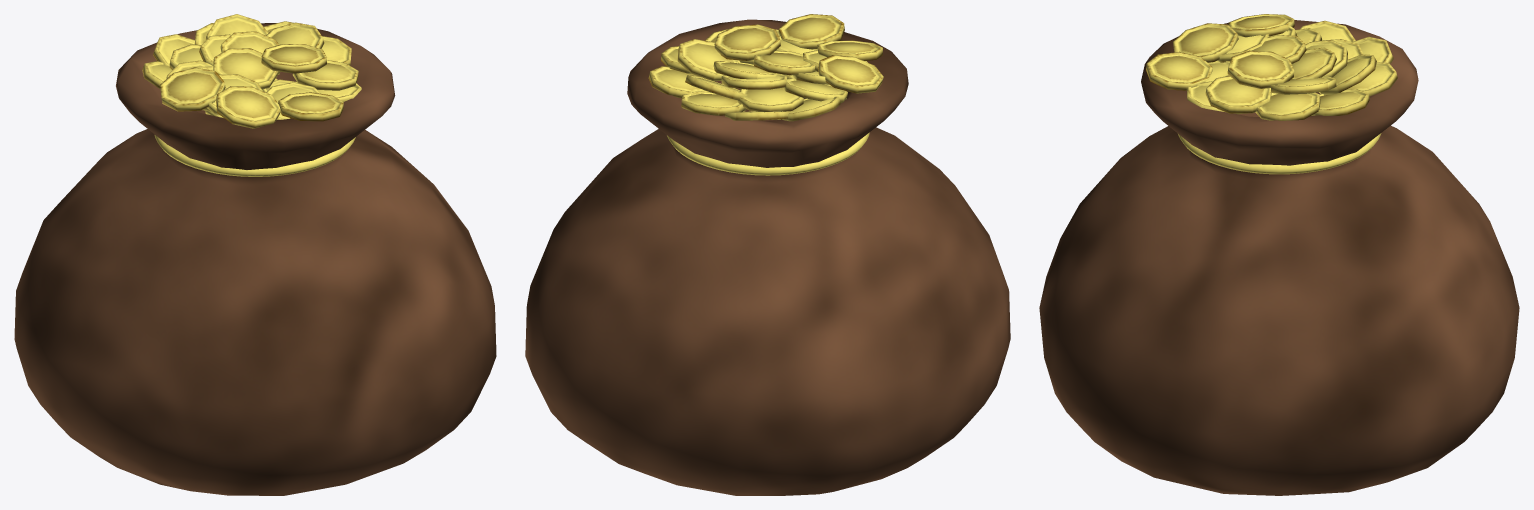
File: goldbag.fbx
The picture shows the model from 3 angles, left to right: view 1: azimuth 30°, elevation 25°; view 2: azimuth 150°, elevation 25°; view 3: azimuth 270°, elevation 25°; orthographic projection.
Parts seen in each view (by area): view 1: Cube; view 2: Cube; view 3: Cube.
Part boxes in pixels (left/top/right/bottom): Cube: left=14, top=14, right=496, bottom=495; Cube: left=525, top=14, right=1010, bottom=495; Cube: left=1039, top=14, right=1519, bottom=495.
Size of the model in its own units: 157 by 146 by 157.
1 material, 1 textured.
